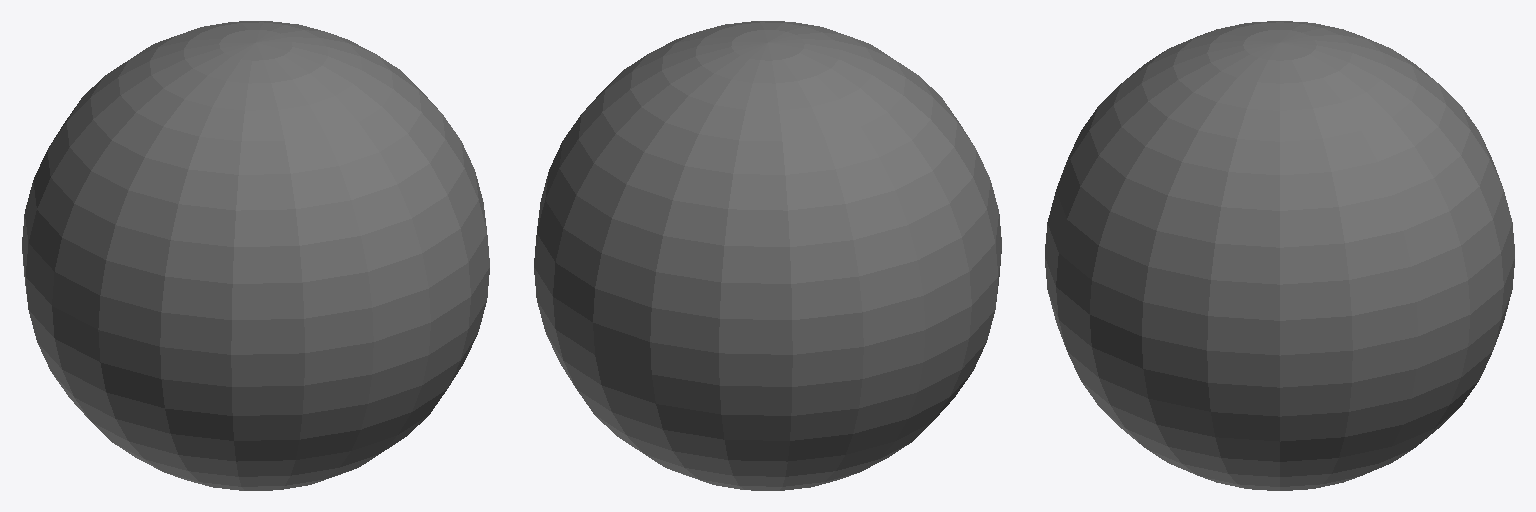
The model's file is JordanBeacon1.obj.
The picture shows the model from 3 angles: view 1: azimuth 30°, elevation 25°; view 2: azimuth 150°, elevation 25°; view 3: azimuth 270°, elevation 25°; orthographic projection.
Parts seen in each view (by area): view 1: pSphere1; view 2: pSphere1; view 3: pSphere1.
Part boxes in pixels (x1,y1,x2,y2): pSphere1: (22,21,489,490); pSphere1: (534,21,1001,490); pSphere1: (1045,21,1514,490).
Bounding box in the file's own units: 4.8 × 4.8 × 4.8.